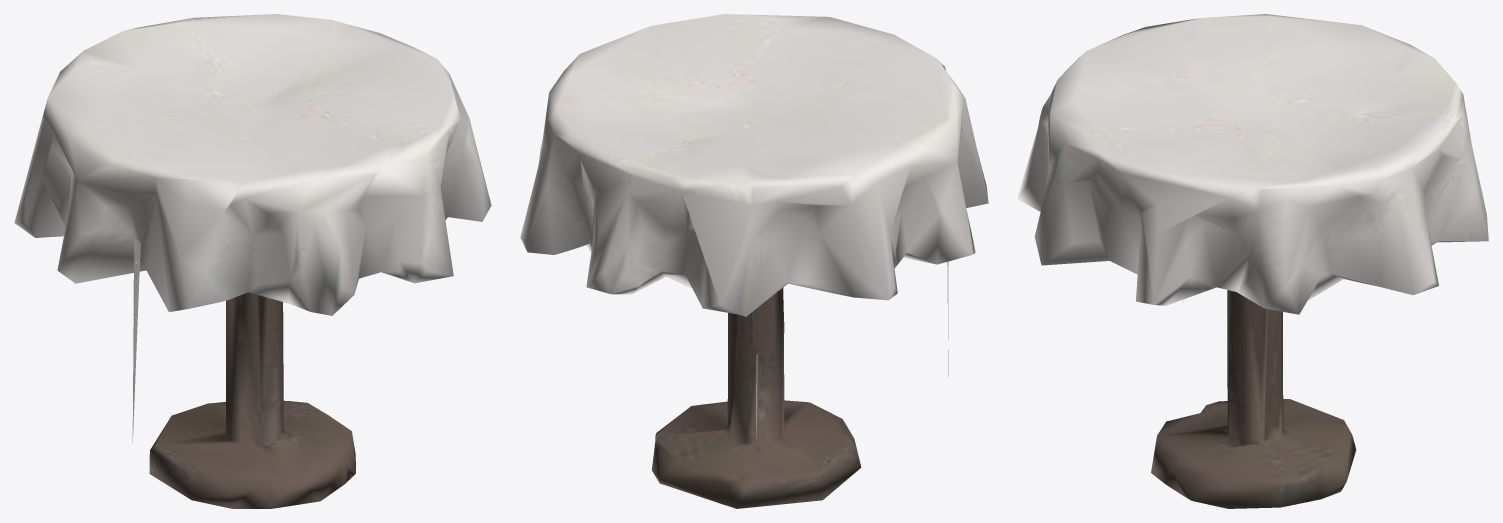
The model's file is table.glb.
3 views of the same model, side by side, from view 1: azimuth 30°, elevation 25°; view 2: azimuth 150°, elevation 25°; view 3: azimuth 270°, elevation 25° (orthographic).
Parts seen in each view (by area): view 1: tripo_node_d43861c3-8a6f-417c-accc-76ac9cb82932; view 2: tripo_node_d43861c3-8a6f-417c-accc-76ac9cb82932; view 3: tripo_node_d43861c3-8a6f-417c-accc-76ac9cb82932.
Part boxes in pixels (x1,y1,x2,y2): tripo_node_d43861c3-8a6f-417c-accc-76ac9cb82932: (14, 14, 491, 508); tripo_node_d43861c3-8a6f-417c-accc-76ac9cb82932: (520, 14, 988, 508); tripo_node_d43861c3-8a6f-417c-accc-76ac9cb82932: (1017, 14, 1488, 508).
Bounding box in the file's own units: 0.9958 × 0.8678 × 1.
1 material, 1 textured.
